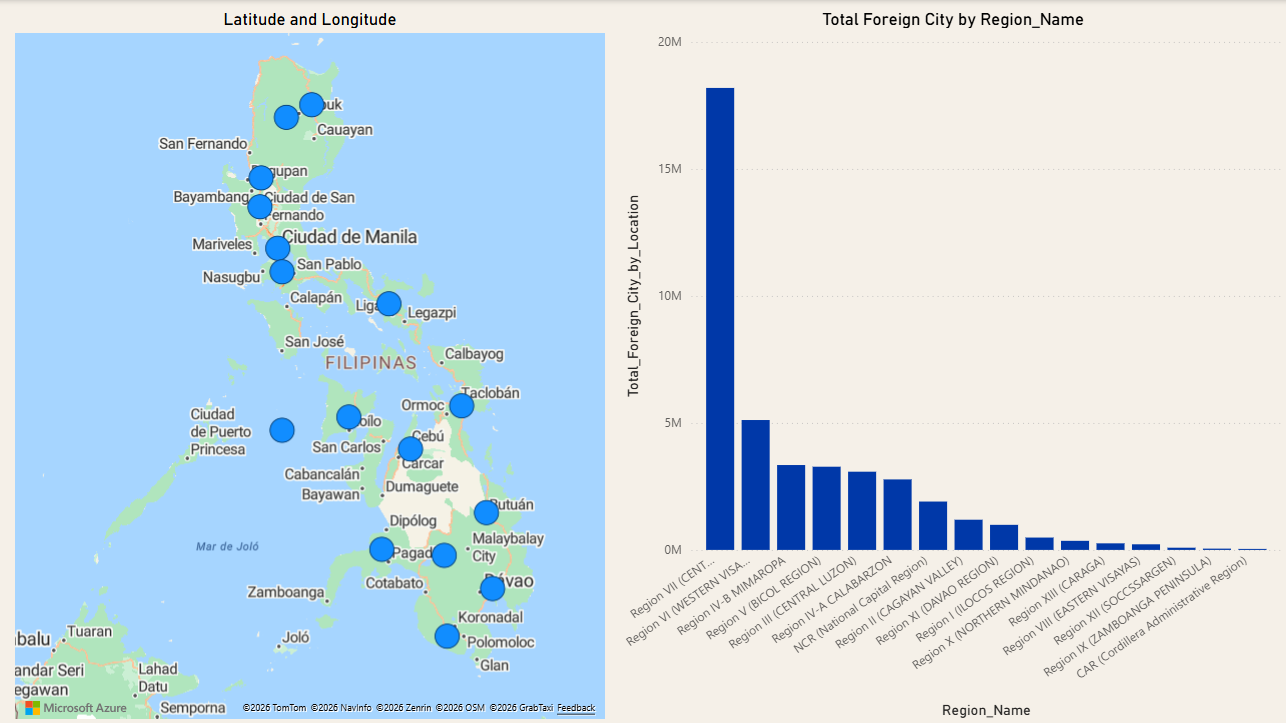

The dashboard page shown, as its layout file describes it:
{"tool":"powerbi","page":{"name":"Page 1","canvas":[1280,720],"ordinal":6},"visuals":[{"type":"map","fields":{"X":["Sheet1.Longitude"],"Y":["Sheet1.Latitude"]},"box":[9.6,0,596.9,720.4],"z":0},{"type":"clusteredColumnChart","fields":{"Category":["Sheet1.Region_Name"],"Y":["Measures (2).Total_Foreign_City_by_Location"]},"box":[617.5,0,662.8,720.4],"z":1}]}

Visuals, with their boxes in screenshot pixels (x1, y1, x2, y2), scaled from the page's 1280x720 canvas onto the 1286x723 screenshot:
map - Sheet1.Longitude x Sheet1.Latitude: l=10, t=0, r=609, b=722
clusteredColumnChart - Sheet1.Region_Name x Measures (2).Total_Foreign_City_by_Location: l=620, t=0, r=1285, b=722
